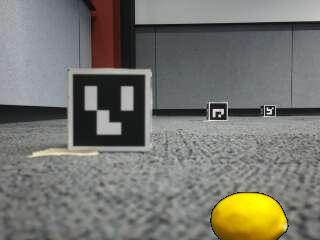lemon: (212, 194, 288, 240)
